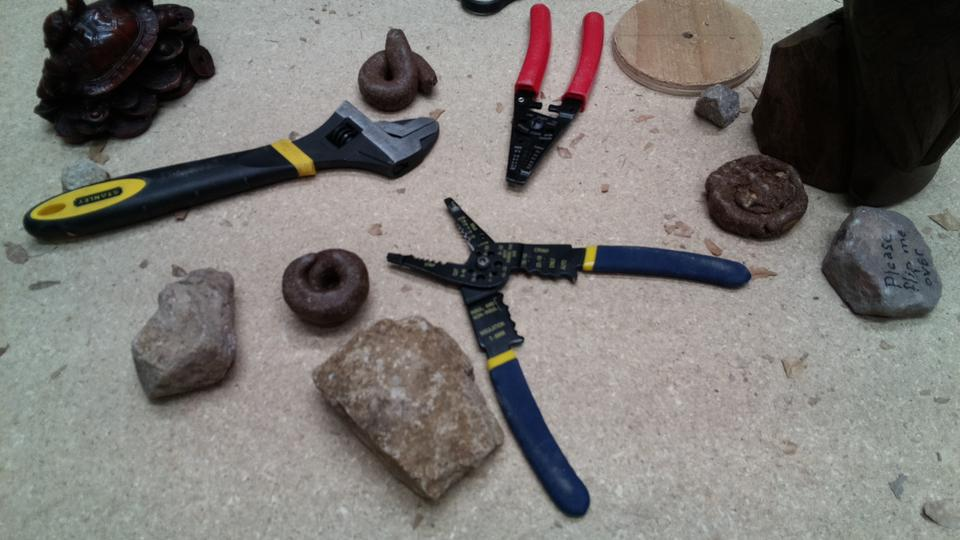poop: (702, 149, 812, 243), (355, 26, 443, 117), (278, 245, 370, 332)
